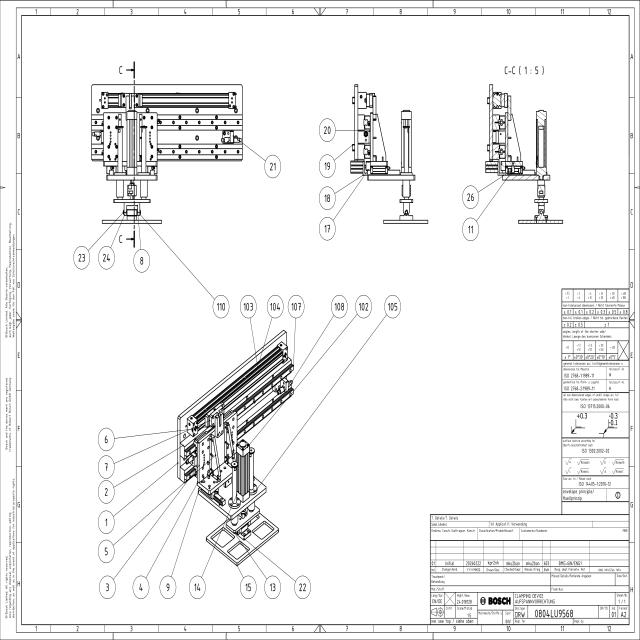dimension: (461, 184, 480, 211), (354, 294, 373, 319), (383, 294, 402, 319), (188, 575, 207, 600), (318, 185, 336, 211), (318, 216, 336, 242), (132, 248, 150, 274), (97, 454, 115, 480), (97, 479, 115, 505), (97, 509, 115, 535), (97, 538, 115, 564), (264, 154, 282, 179), (318, 154, 336, 179), (72, 245, 90, 270), (98, 245, 116, 270), (212, 294, 230, 319), (239, 294, 257, 319), (266, 294, 284, 319), (287, 294, 305, 319), (97, 427, 115, 452), (98, 575, 116, 600), (132, 575, 150, 600), (159, 575, 177, 600), (239, 575, 257, 600), (264, 575, 282, 600), (294, 575, 312, 600), (462, 216, 479, 242), (318, 118, 336, 142), (331, 294, 348, 319)
